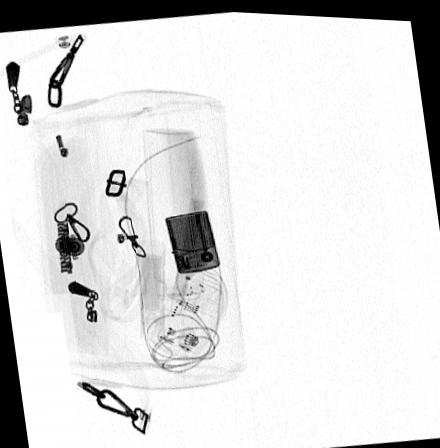Lighter: (164, 208, 219, 272)
